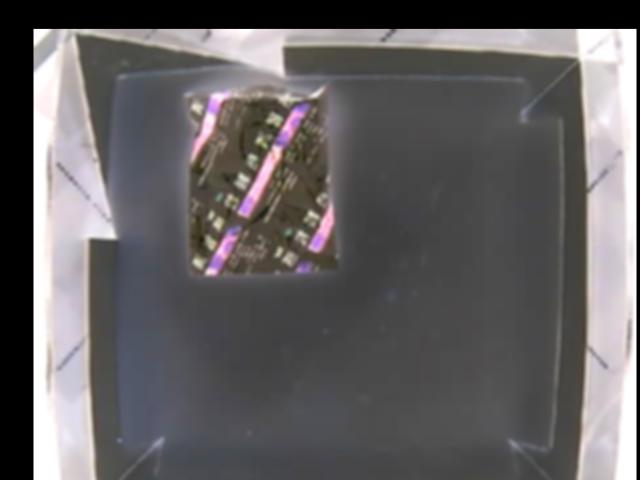Medicine: (184, 82, 335, 277)
